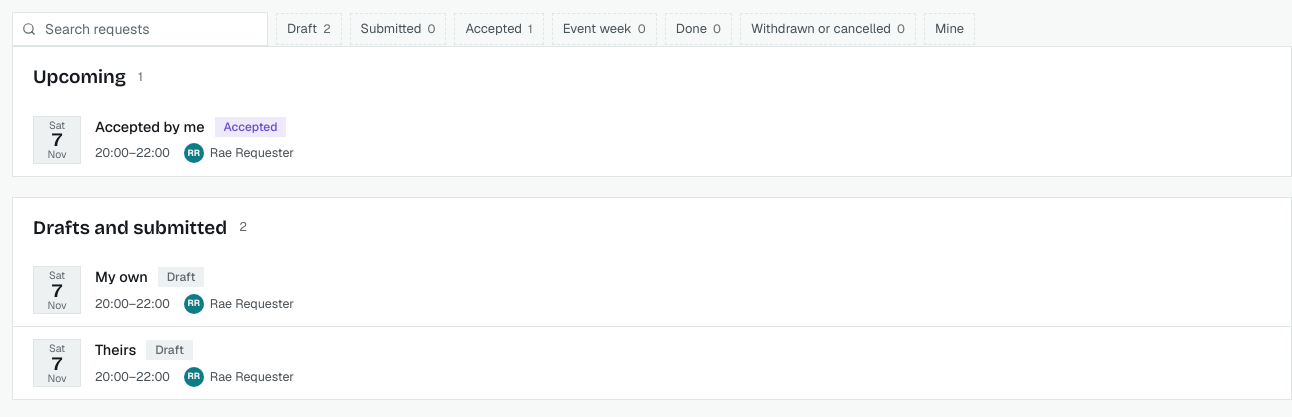
Test case: RequestList › narrows to my requests with Mine
Step 1. Click the button "Mine" → (950, 29), box 924,13 -> 975,45
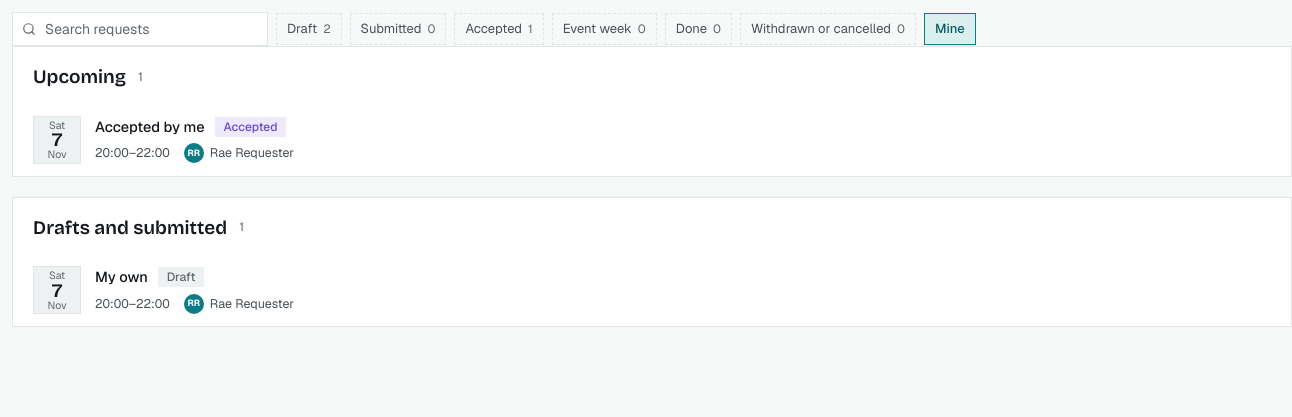
Expected: the link "My own" is shown, 95,266 -> 148,288
Result: the link "Theirs" is gone
